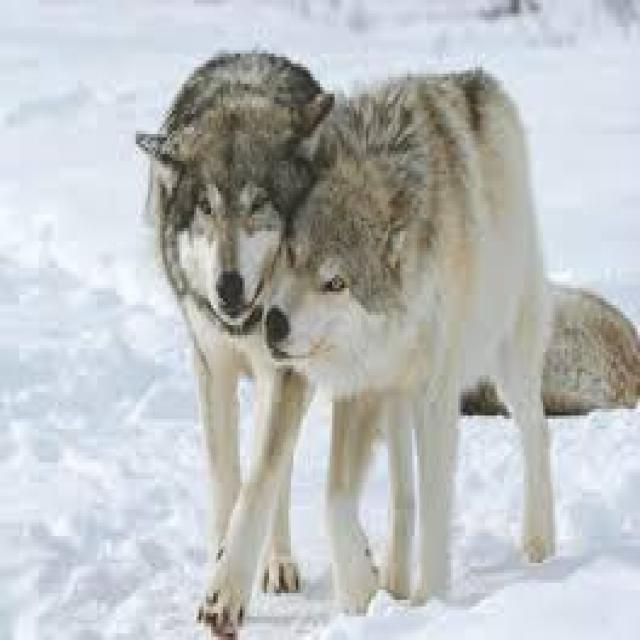Wolf: (257, 64, 558, 613), (133, 47, 340, 637)
